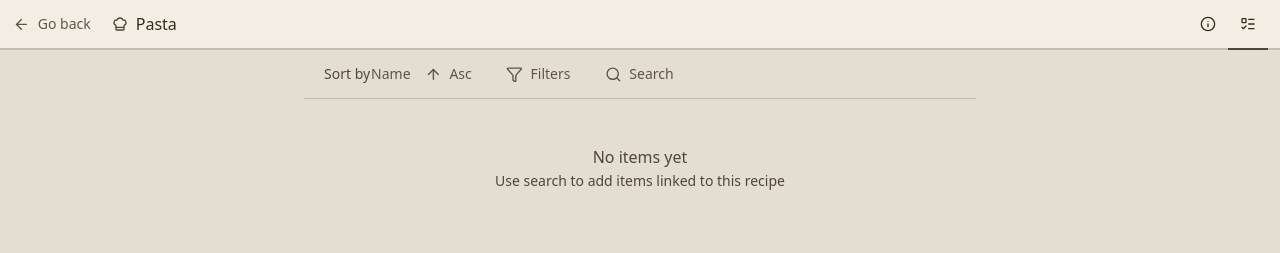
Scenario: Recipe Detail - Items Tab › user can see Create item button when search input has no matches
The width and height of the screenshot is (1280, 253).
// When user opens the search panel
Click the button with aria-label "toggle search": click(639, 74) top-left (592, 58), bottom-right (687, 90)
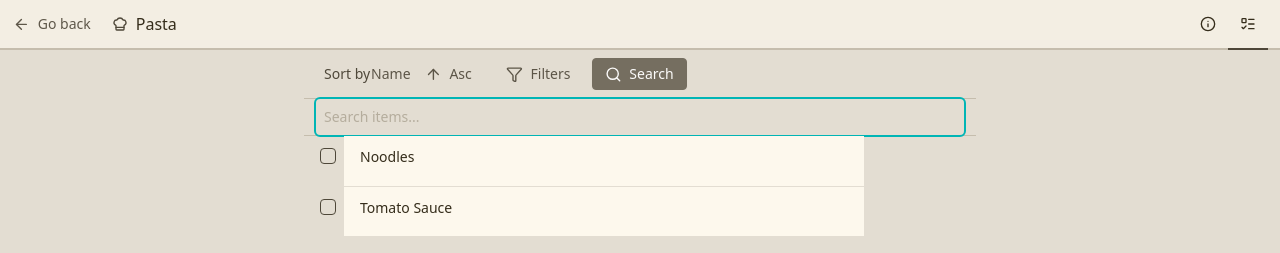
Check: the field with placeholder "Search items..." is shown
// When user searches for non-existent item
In the field with placeholder "Search items...": (640, 117) top-left (316, 99), bottom-right (964, 135), type "xyz"
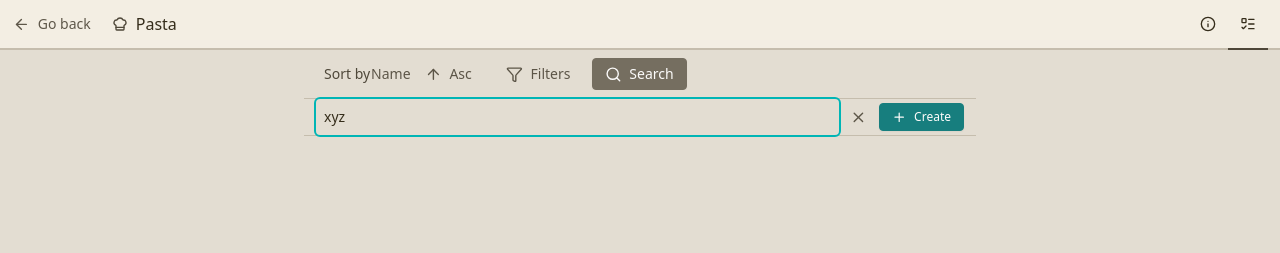
Check: the button with aria-label "create item" is shown, box top-left (879, 103), bottom-right (964, 131)
